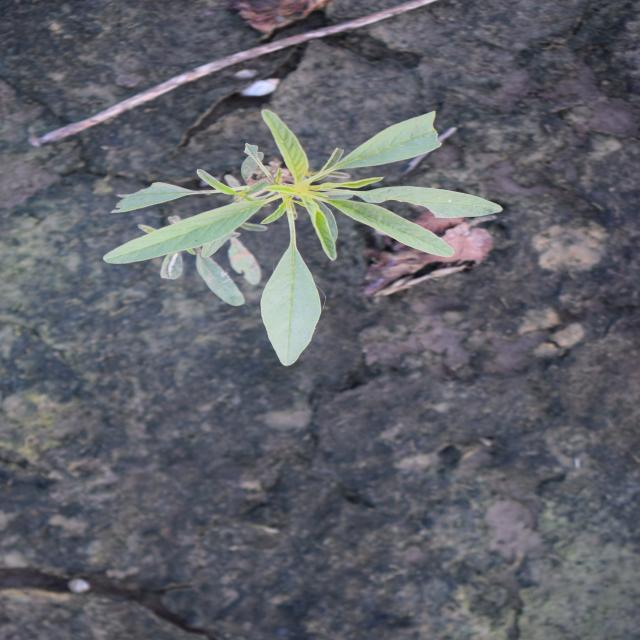Waterhemp: (98, 106, 508, 367)
